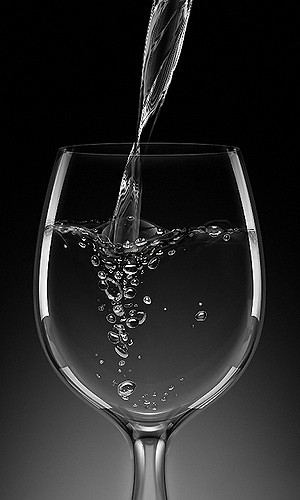glass of water: (29, 9, 269, 491)
